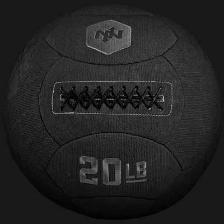Sports-Ball: (2, 3, 224, 221)
